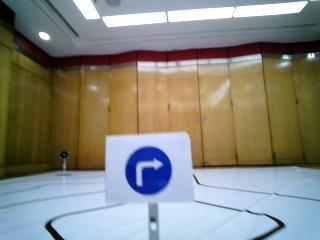right: (110, 137, 190, 199)
